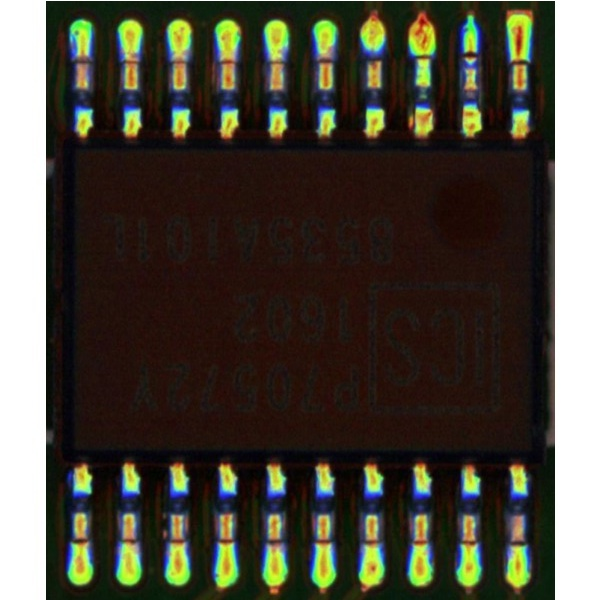Bad_podu: (318, 524, 330, 559), (515, 34, 525, 76), (224, 38, 234, 75), (78, 38, 88, 74), (269, 526, 280, 557), (466, 31, 475, 68), (75, 526, 86, 554), (464, 527, 473, 558)
